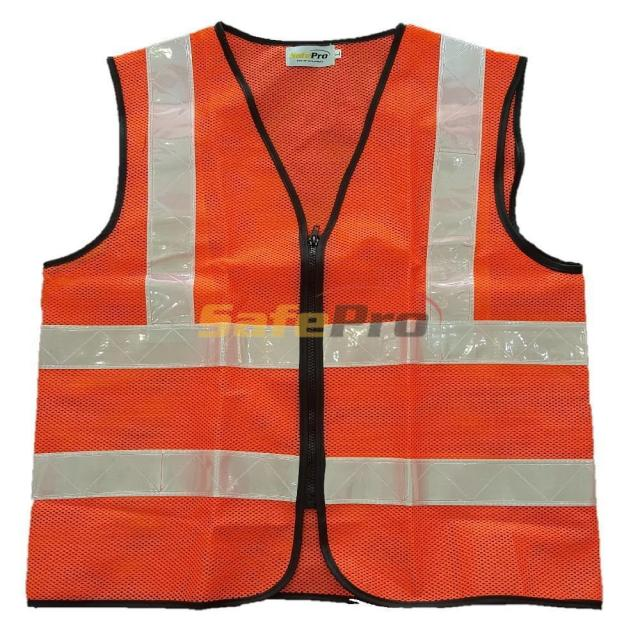vest: (24, 18, 606, 614)
